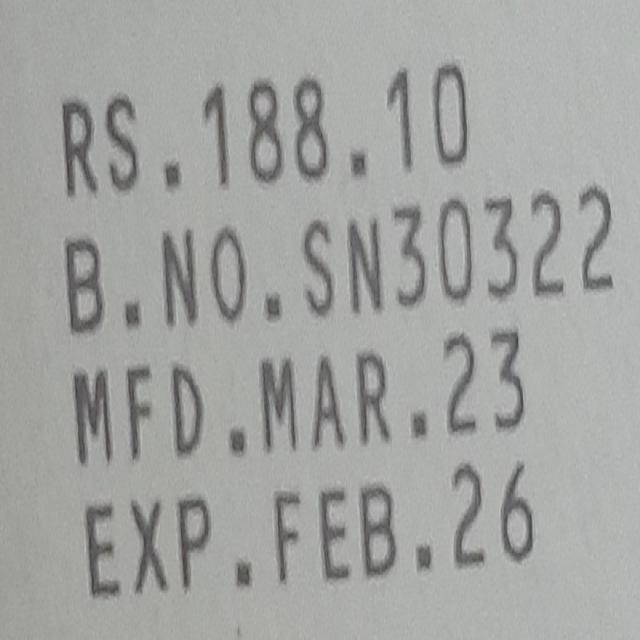sentence: (64, 185, 615, 335), (72, 327, 525, 468), (59, 48, 469, 201), (84, 461, 539, 598)
